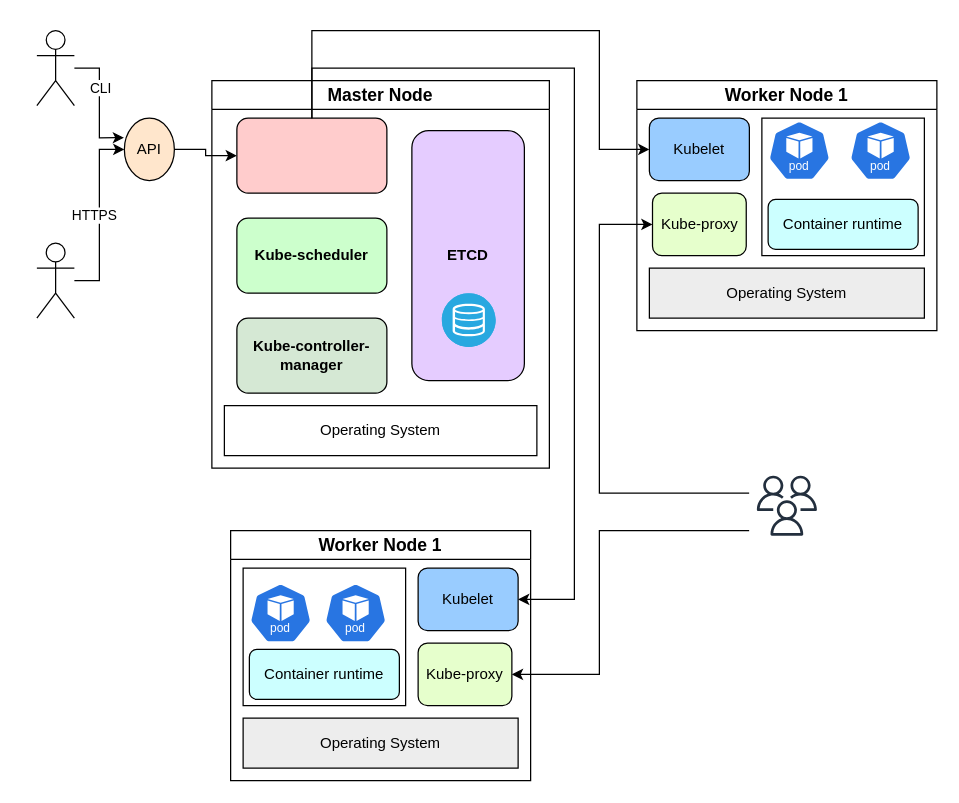
The diagram is 959 pixels wide and 803 high, and some of its shapes have lost their labels. The shapes that lost their labels are listed below. From the top down, each one's centre as x and y in pixels, then its label:
the point at 55,67: Admin
the point at 311,155: Kube-apiserver
the point at 55,280: Developer
the point at 786,505: Users
